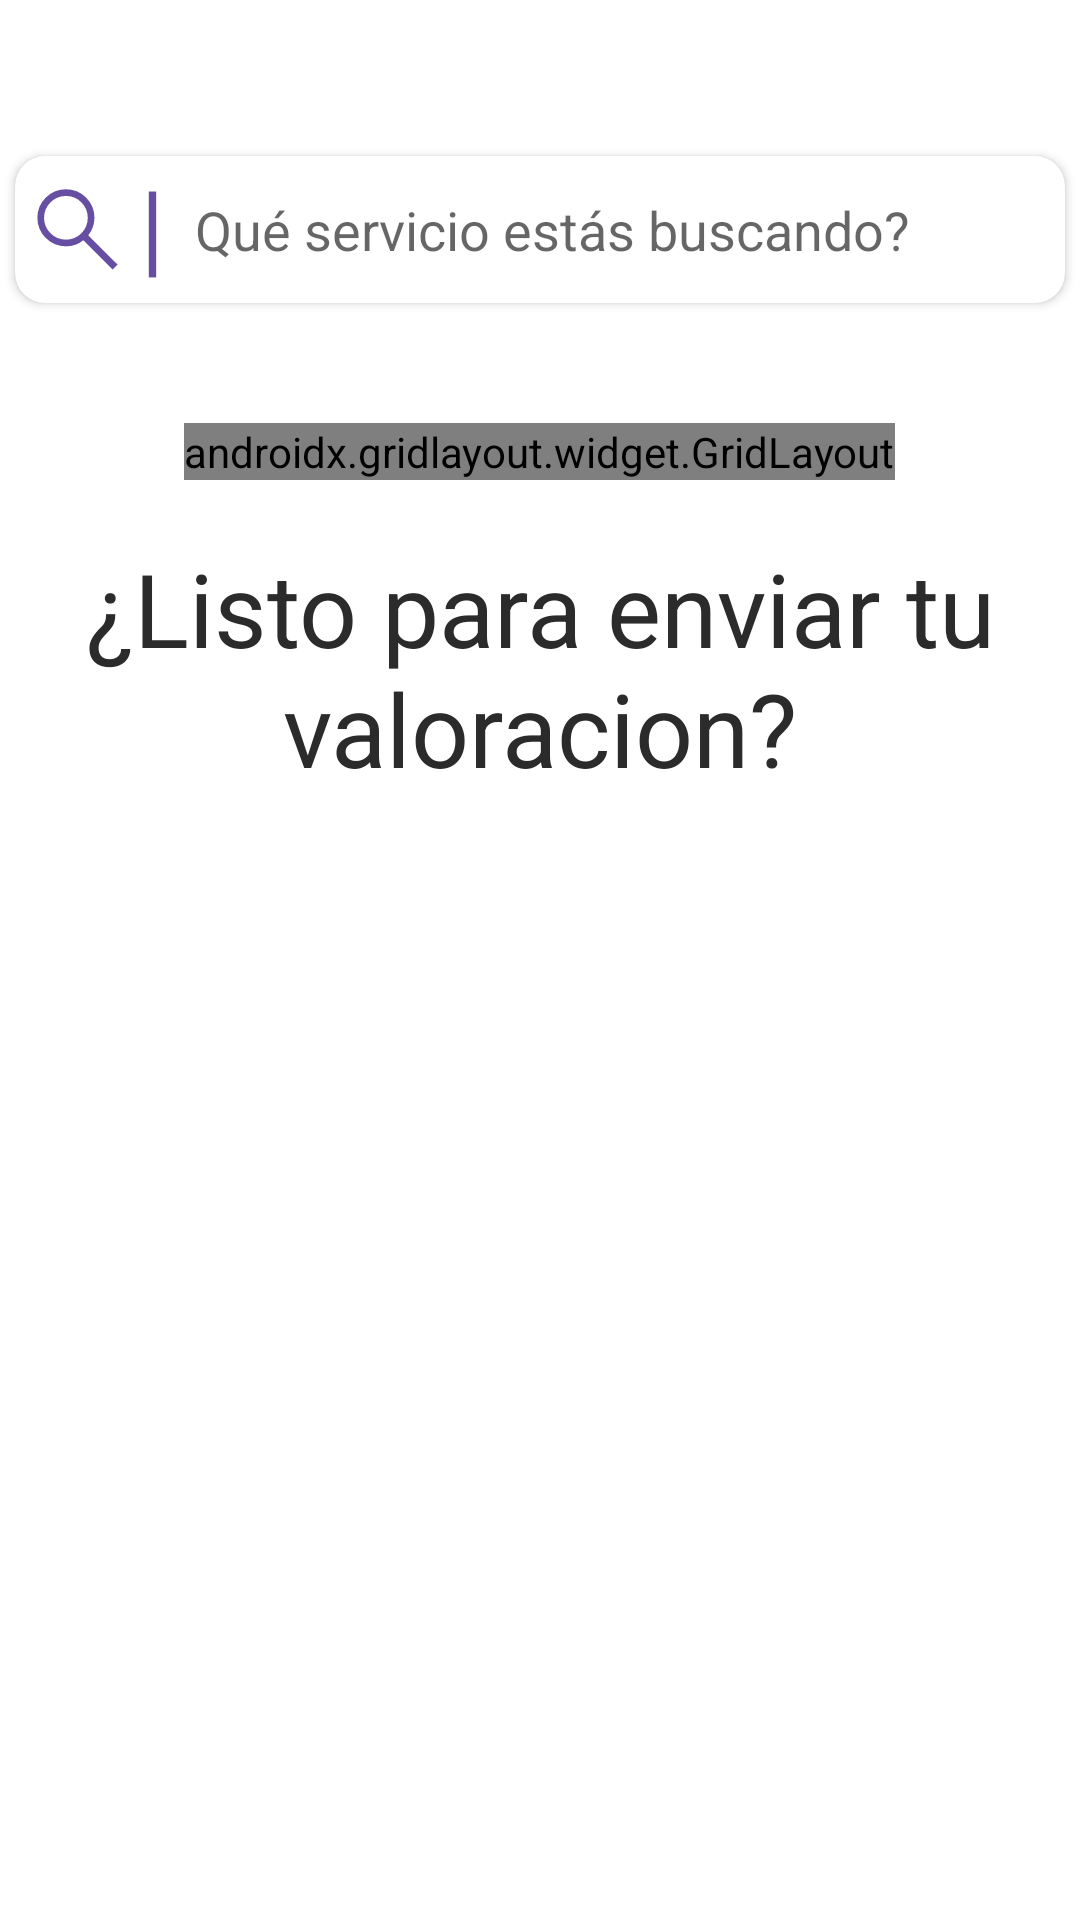

Icon click points for this 1080x1920 phone screenshot, format (x=x, y=y):
search: (x=77, y=229)
